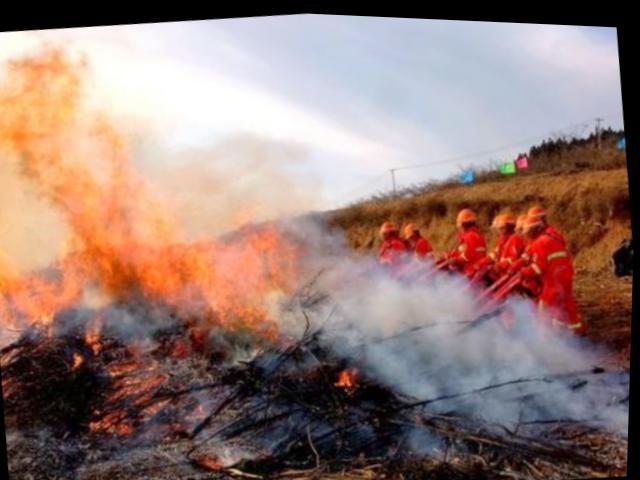fire: (0, 36, 318, 479)
